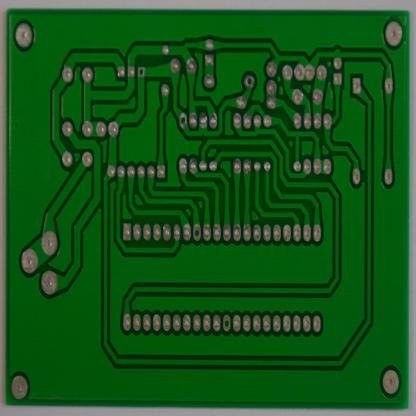missing_hole: (220, 312, 233, 334), (243, 71, 256, 90), (191, 222, 202, 244), (176, 110, 188, 129), (136, 64, 146, 78)
